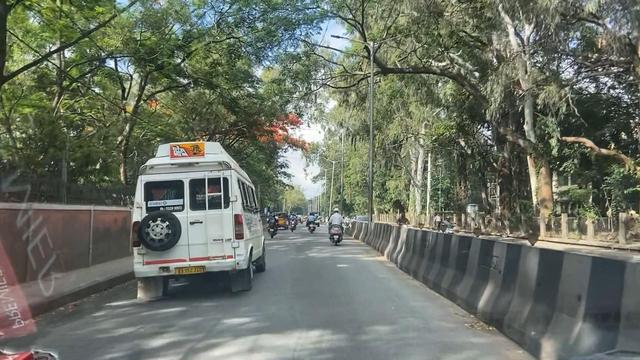HMV: (134, 149, 251, 292)
LMV: (330, 209, 343, 246), (304, 210, 316, 232)
